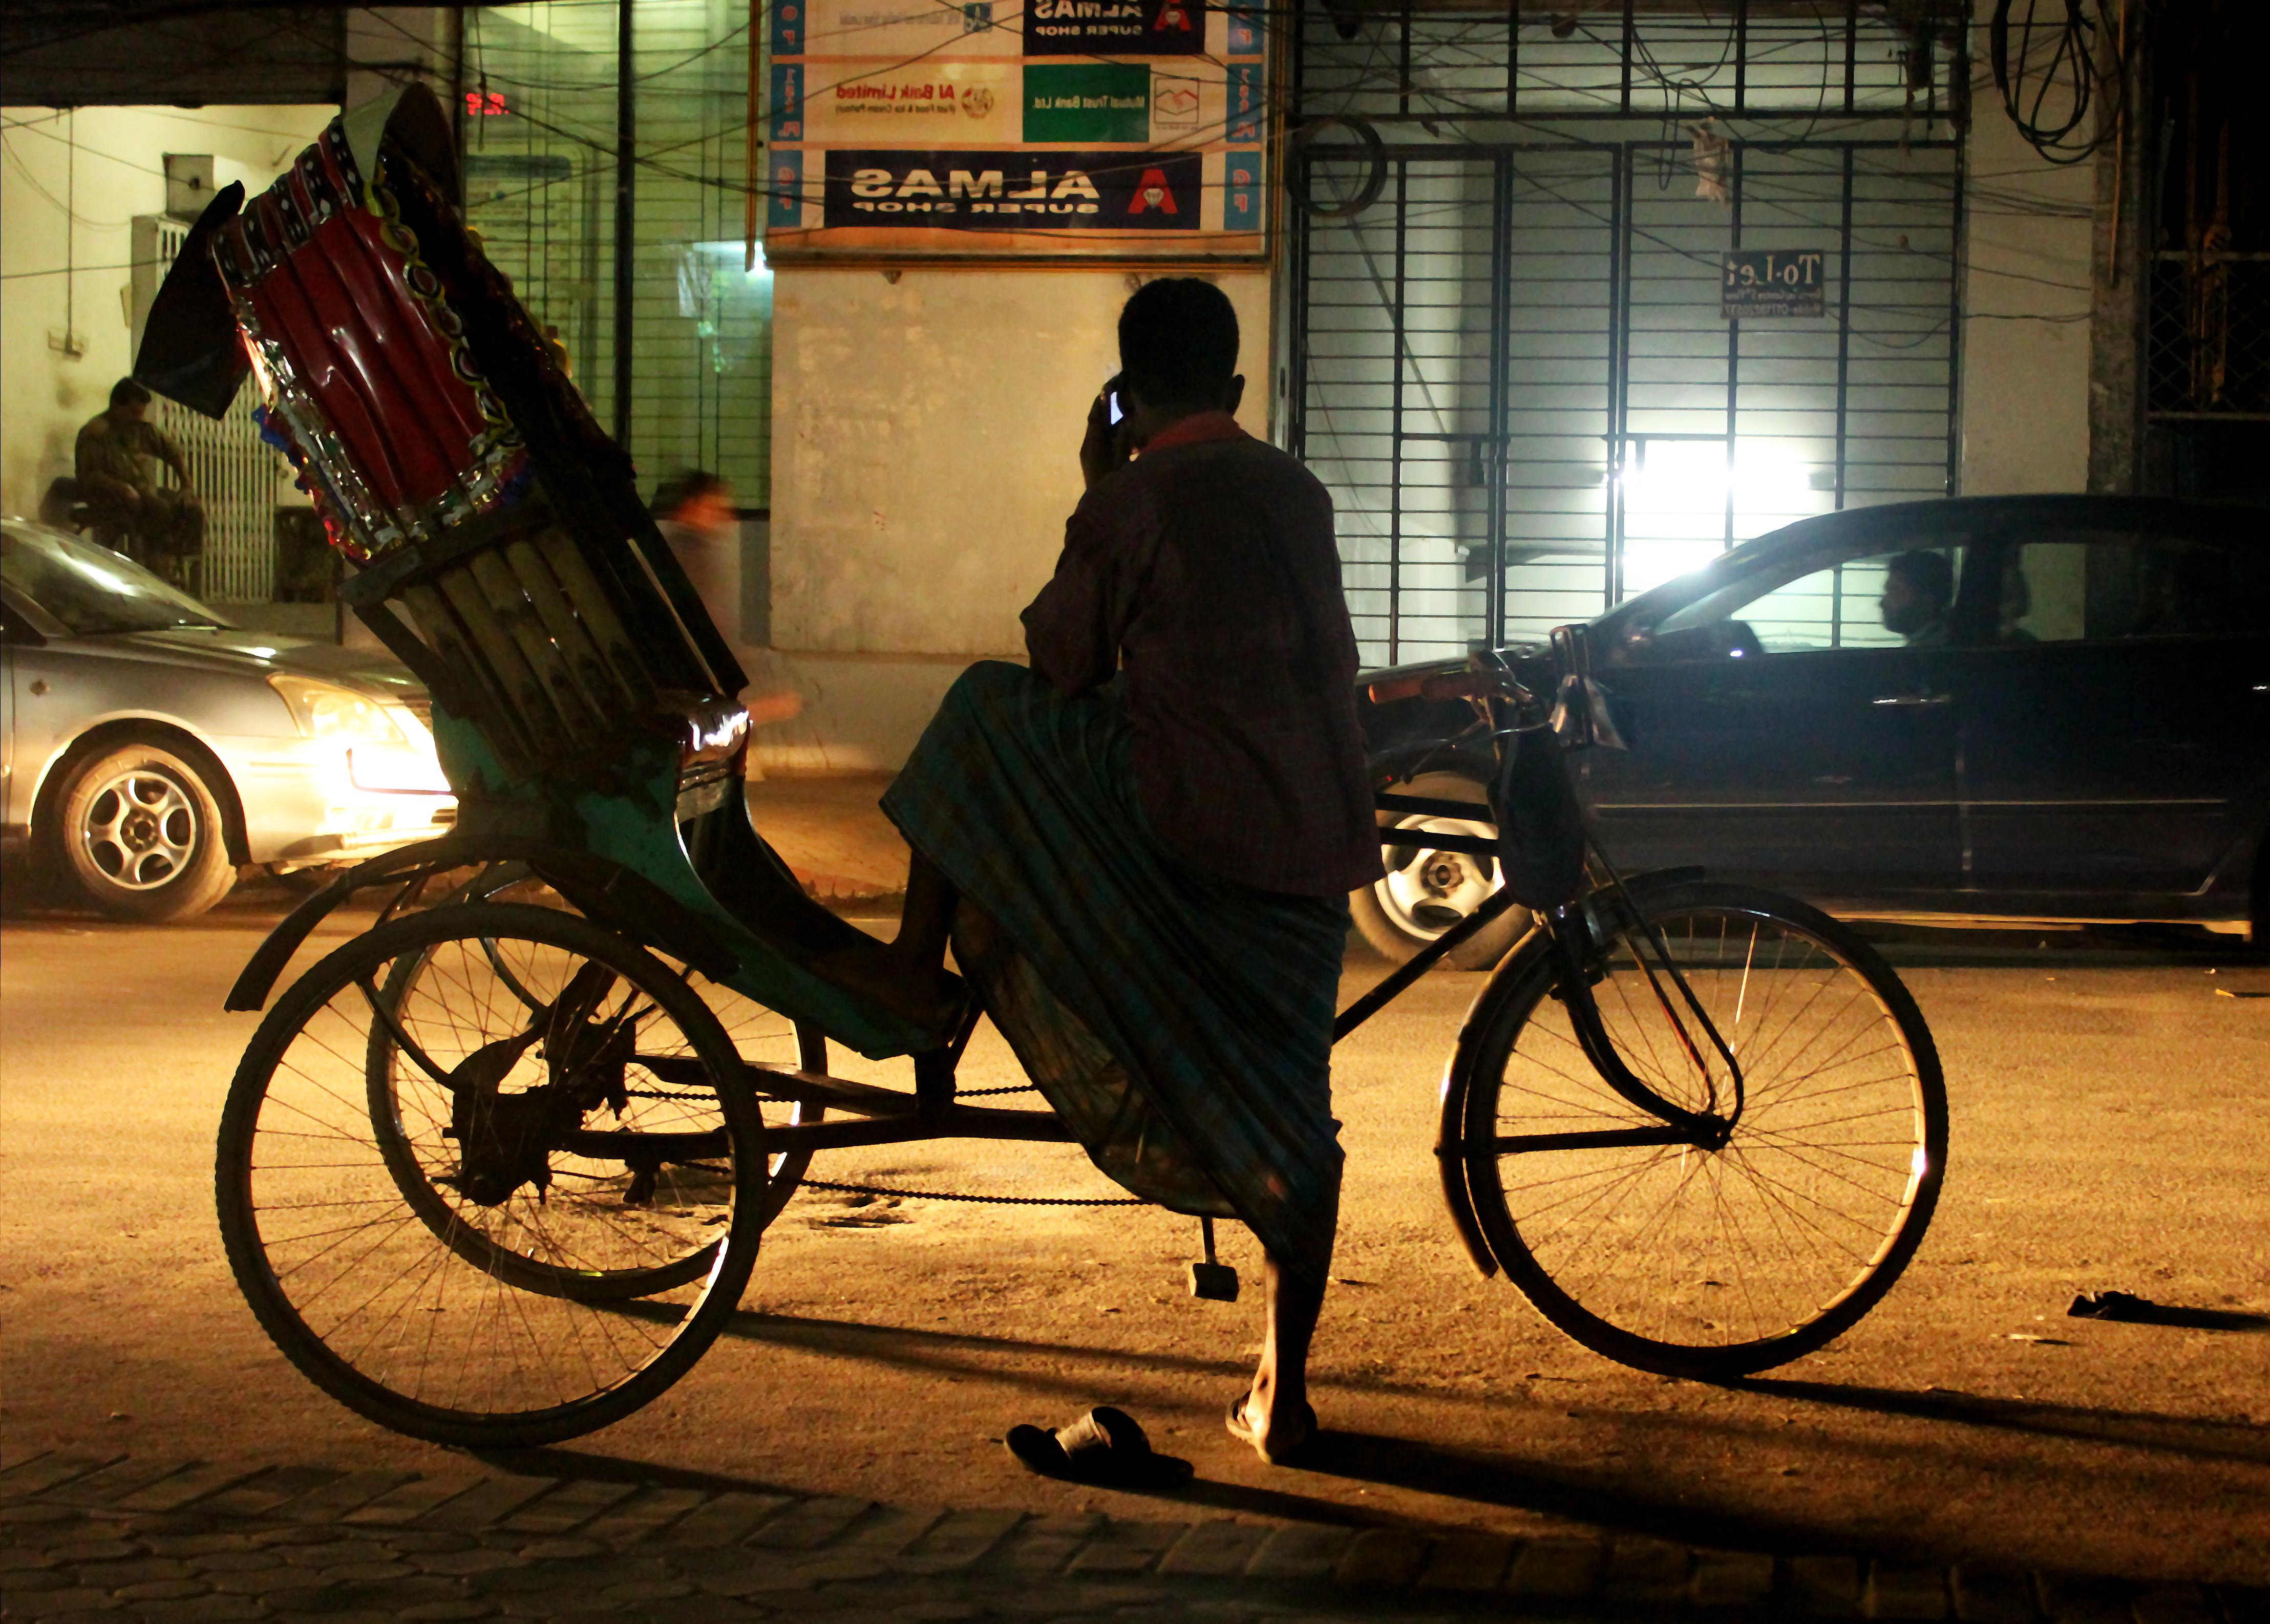Rickshaw: (130, 98, 1919, 1380)
